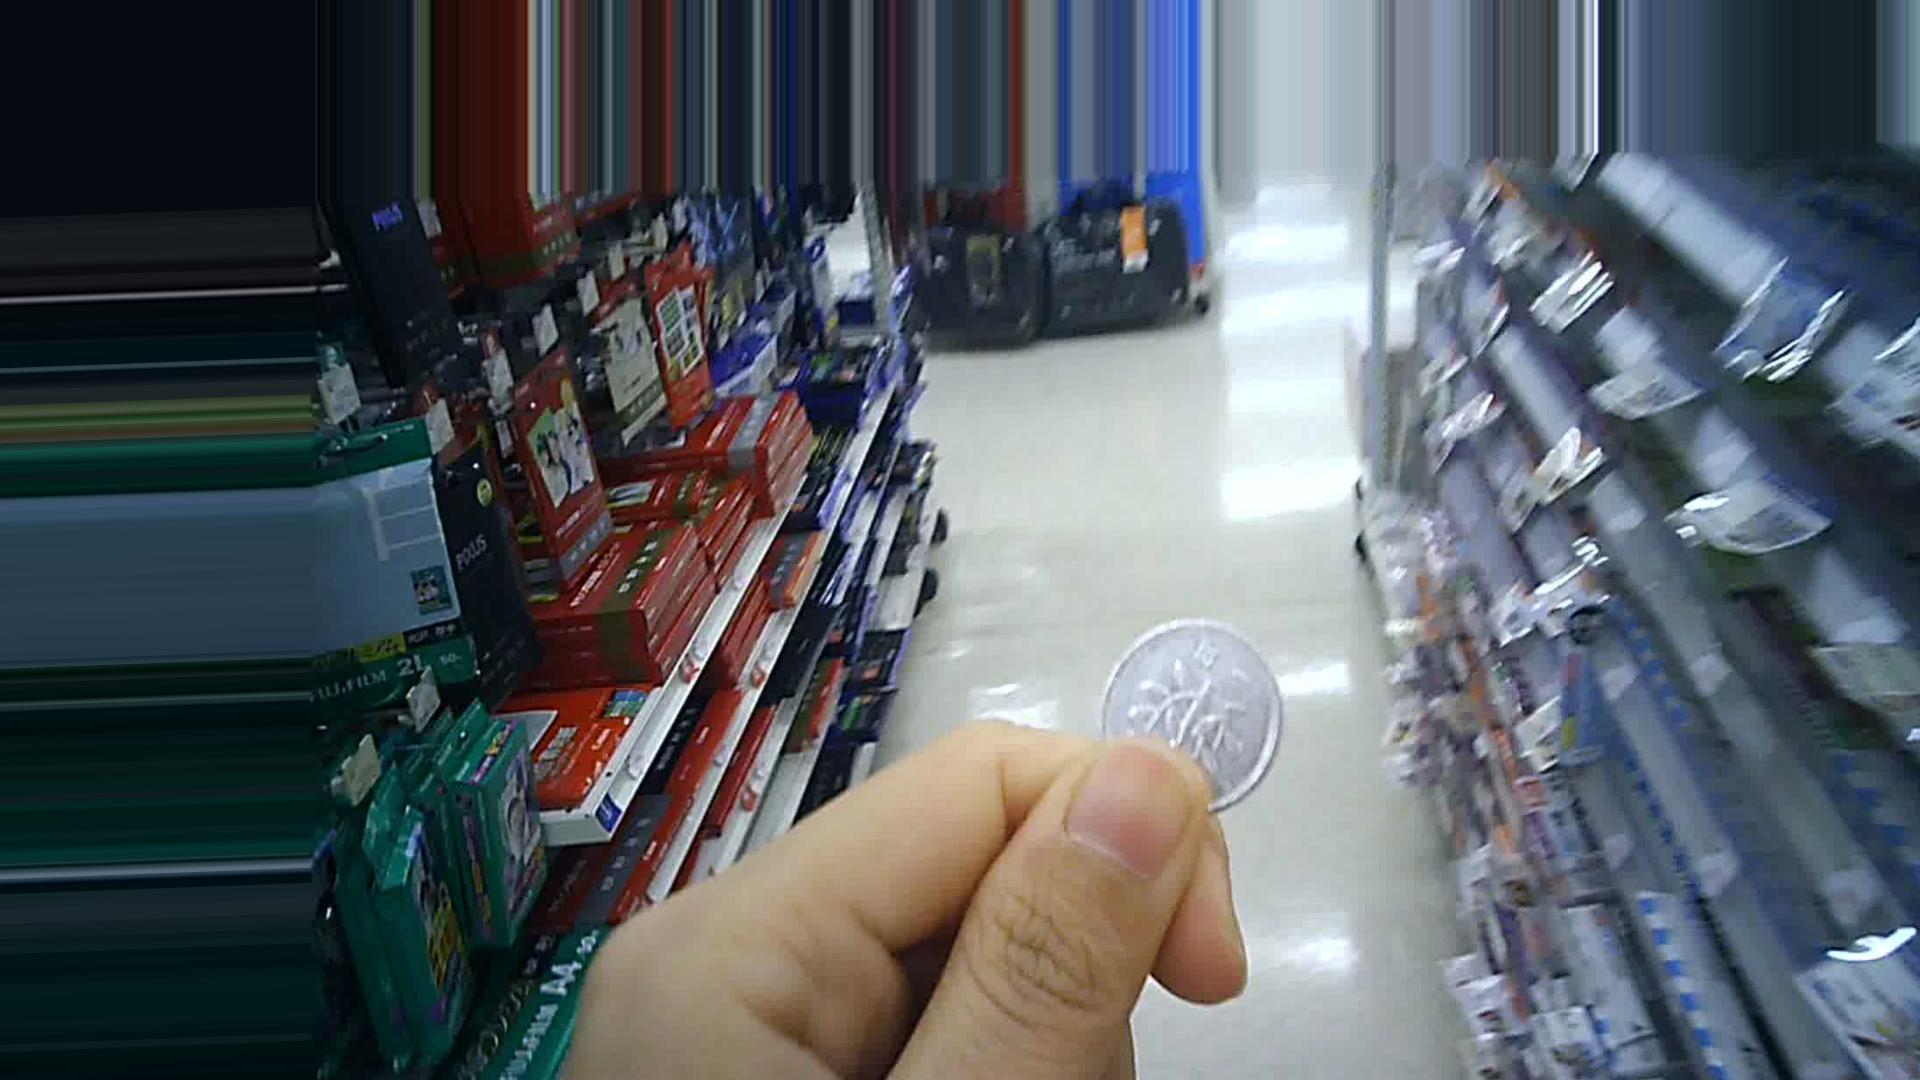1 Yen: (1097, 618, 1276, 828)
